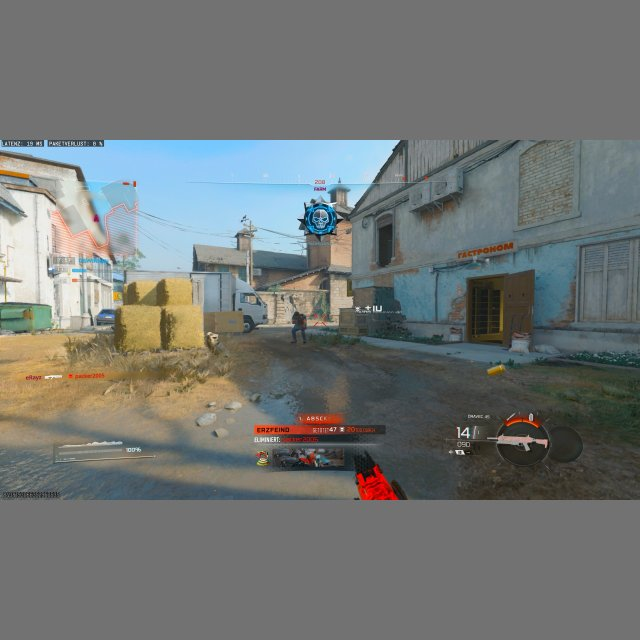player: (290, 310, 307, 343)
